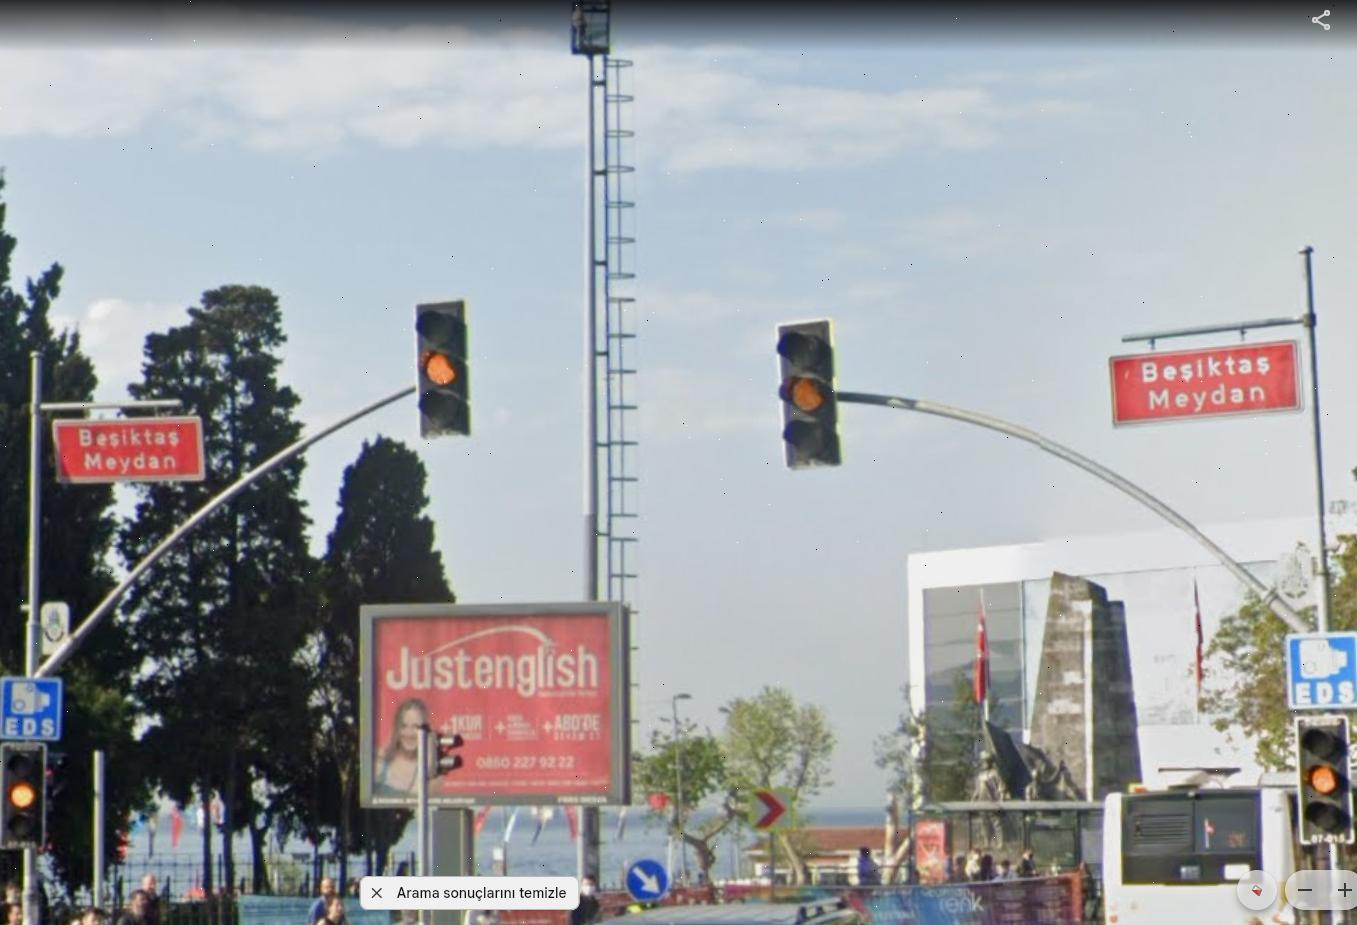yellowlight: (779, 324, 838, 462), (1298, 717, 1352, 837), (418, 304, 466, 426), (3, 745, 42, 836)
